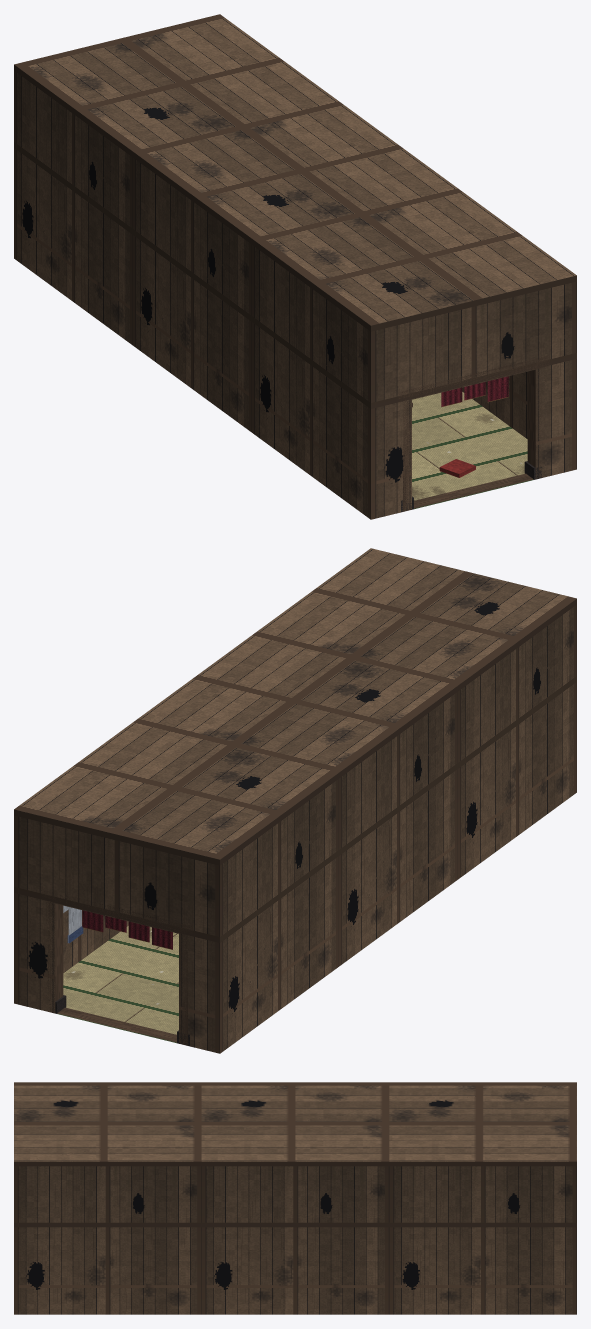
The picture shows the model from 3 angles, top to bottom: view 1: azimuth 30°, elevation 25°; view 2: azimuth 150°, elevation 25°; view 3: azimuth 270°, elevation 25°; orthographic projection. The views are drawn at different scales.
Parts seen in each view (by area): view 1: -_C, -_C_Deco; view 2: -_C, -_C_Deco; view 3: -_C.
Part boxes in pixels (left/top/right/bottom): -_C: left=14, top=14, right=576, bottom=519; -_C_Deco: left=401, top=376, right=545, bottom=512; -_C: left=14, top=548, right=576, bottom=1053; -_C_Deco: left=55, top=905, right=189, bottom=1046; -_C: left=14, top=1082, right=576, bottom=1314.
Size of the model in its own units: 2 by 0.6667 by 0.6.
Materials: 4 (4 with a texture image).
